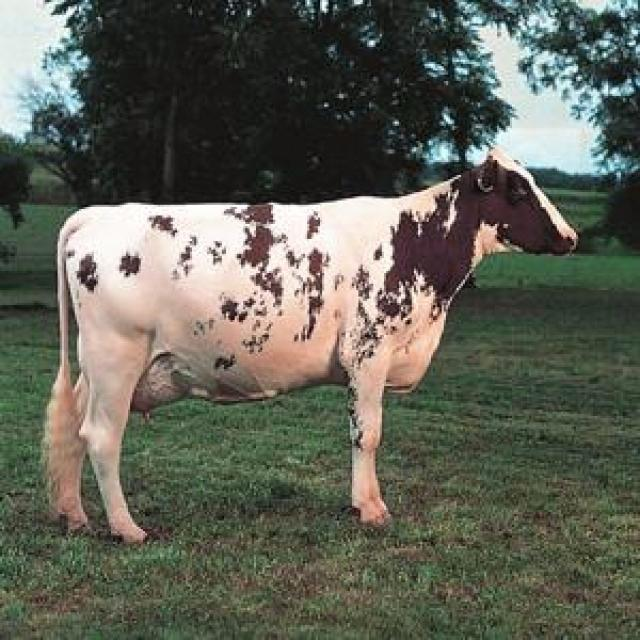cow: (46, 152, 574, 542)
